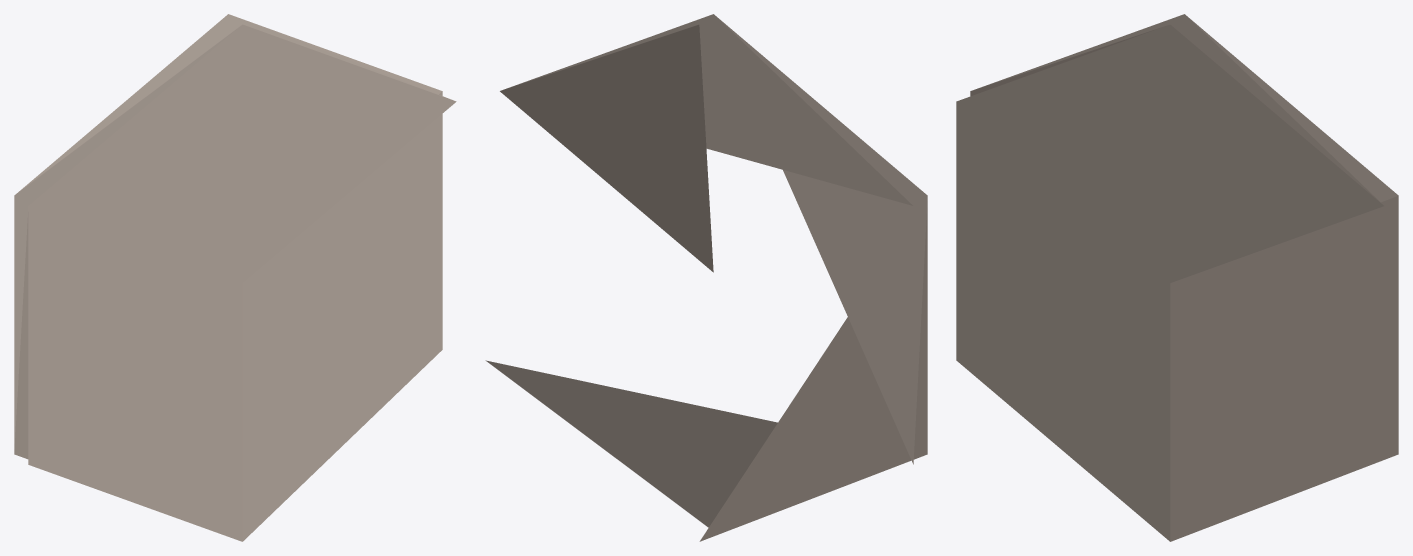
The model's file is hex_desert.glb.
3 renders of one model, left to right at view 1: azimuth 30°, elevation 25°; view 2: azimuth 150°, elevation 25°; view 3: azimuth 330°, elevation 25°, orthographic.
Visible parts, largest first — view 1: base; view 2: base; view 3: base.
Part boxes in pixels (x1,y1,x2,y2): base: (14,14,456,541); base: (485,14,927,541); base: (956,14,1398,541).
Bounding box in the file's own units: 3.46 × 4 × 0.2.
